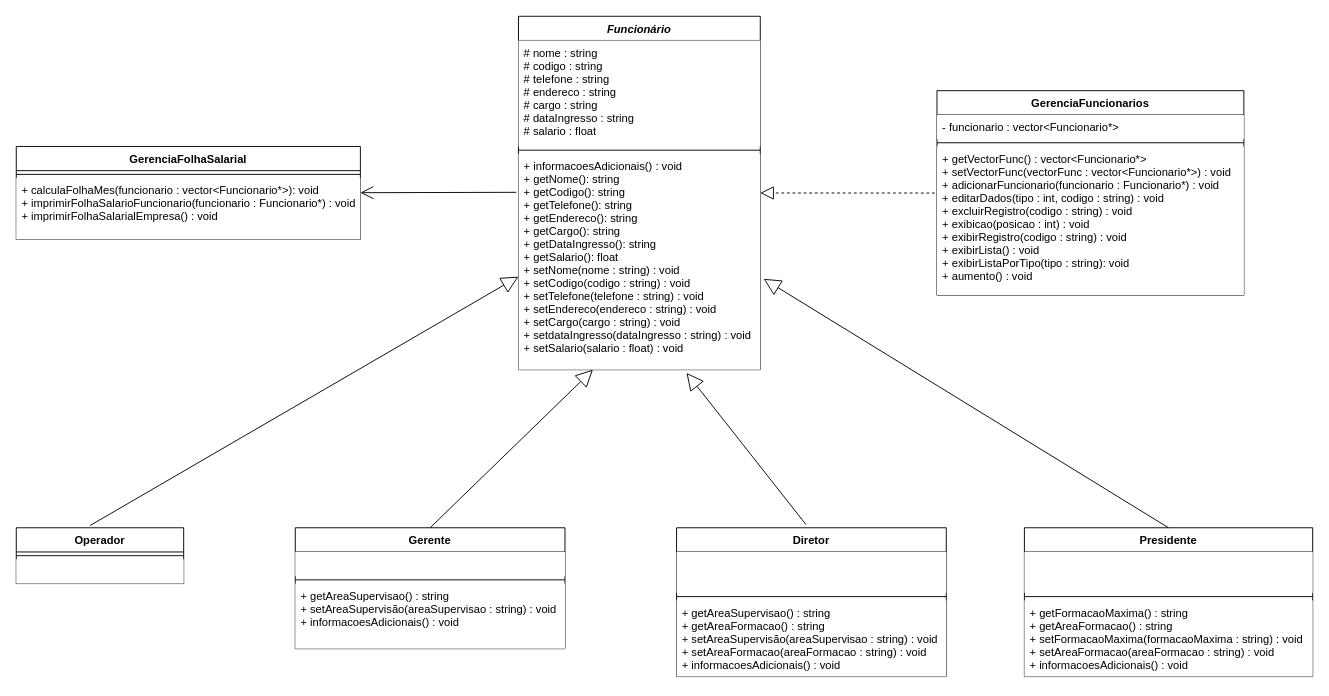
Image size: 1329x696. Some labels were removed from this diagram. The shapes that lost their labels are listed below. From the top down, each one's centre as x and y in pixels, then its label:
At (x=99, y=571): "+ informacoesAdicionais(): void".
At (x=430, y=563): "- areaSupervisao : string".
At (x=811, y=571): "- areaSupervisao : string - areaFormacao : string".
At (x=1168, y=571): "- formacaoMaxima : string - areaFormacao : string".
